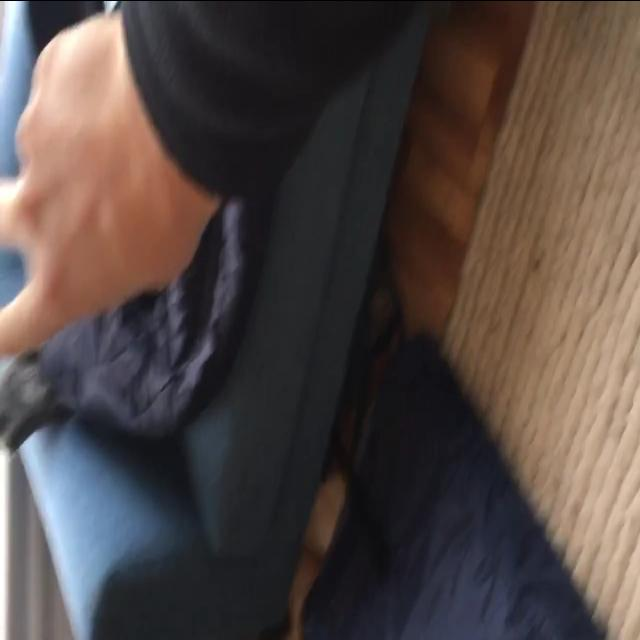Scissors: (0, 11, 201, 356)
